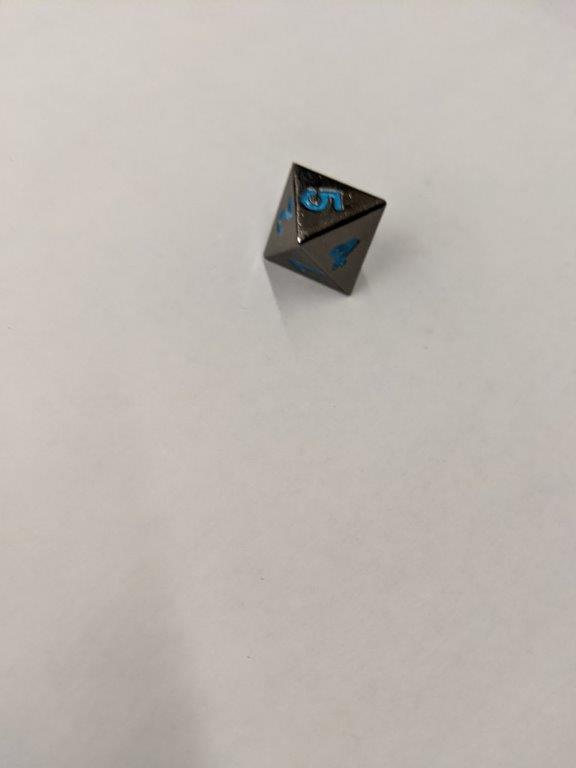d8-5: (260, 159, 388, 302)
